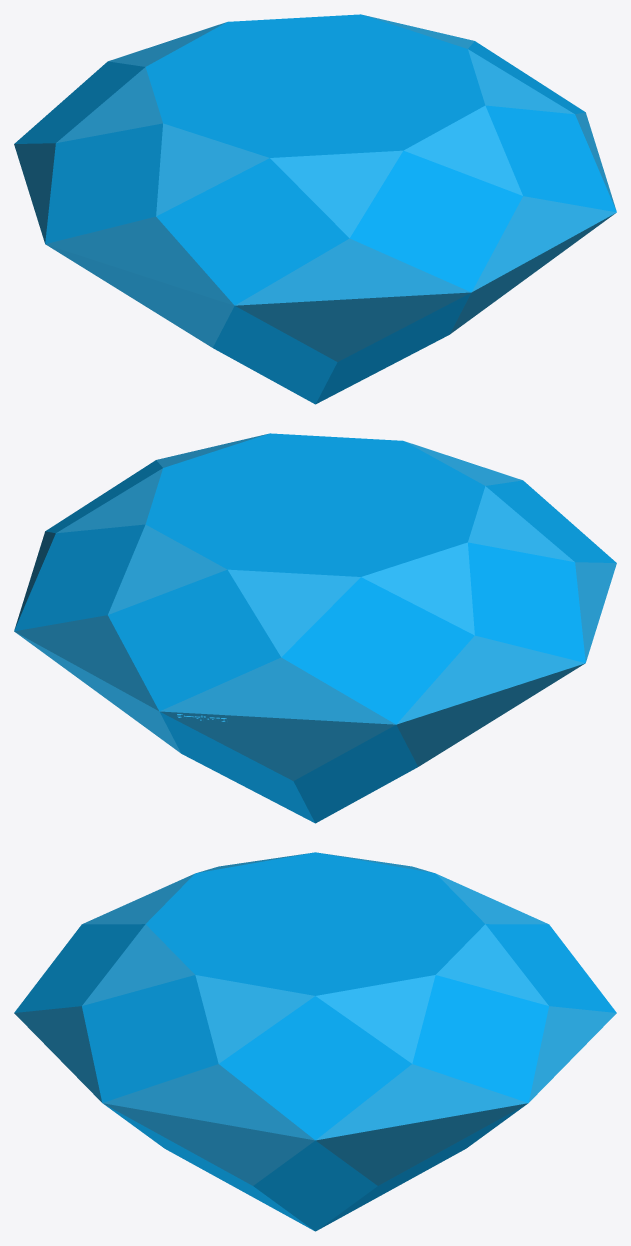
Rendered from gem_stone.fbx.
3 renders of one model, top to bottom at view 1: azimuth 30°, elevation 25°; view 2: azimuth 150°, elevation 25°; view 3: azimuth 270°, elevation 25°, orthographic. The views are drawn at different scales.
Parts seen in each view (by area): view 1: Gem.001; view 2: Gem.001; view 3: Gem.001.
Part boxes in pixels (x1=…): Gem.001: x1=14, y1=14, x2=616, y2=404; Gem.001: x1=14, y1=433, x2=616, y2=823; Gem.001: x1=14, y1=852, x2=616, y2=1231.
Bounding box in the file's own units: 240 × 135 × 240.
1 material, 1 textured.
